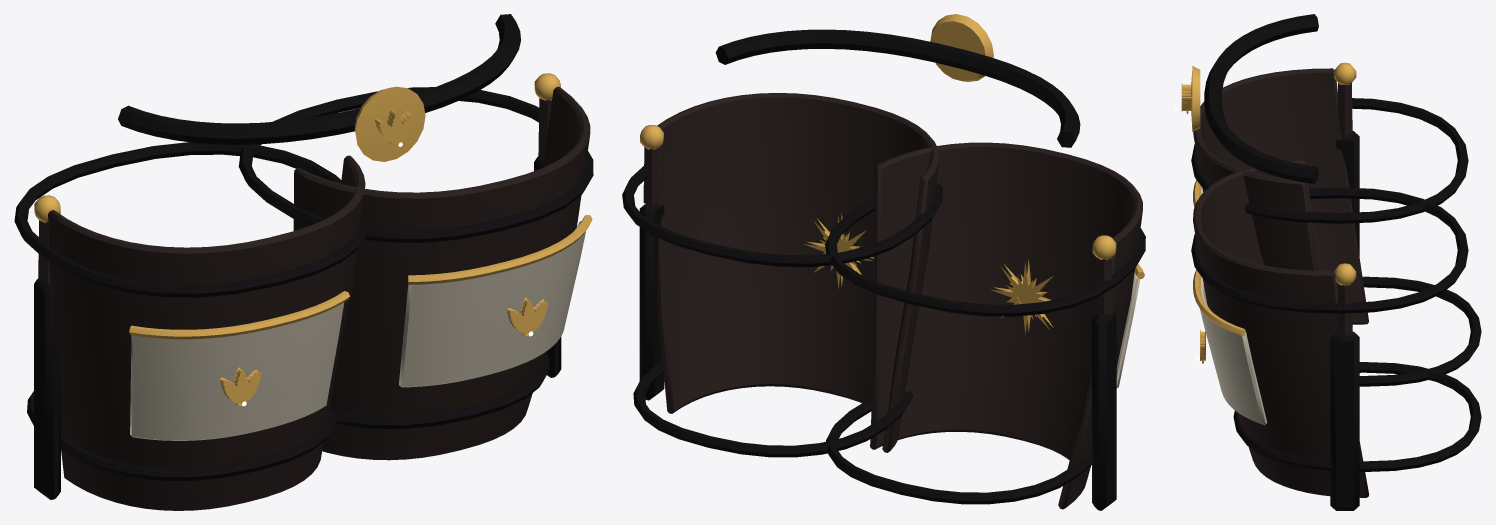
Rendered from asc_penitent_talon_leggings.glb.
3 renders of one model, left to right at view 1: azimuth 30°, elevation 25°; view 2: azimuth 150°, elevation 25°; view 3: azimuth 270°, elevation 25°, orthographic. The views are drawn at different scales.
Parts seen in each view (by area): view 1: AT_thigh_R, AT_thigh_L, asc_penitent_talon_leggings; view 2: AT_thigh_L, AT_thigh_R, asc_penitent_talon_leggings; view 3: AT_thigh_L, AT_thigh_R, asc_penitent_talon_leggings.
Part boxes in pixels (x1,y1,x2,y2): AT_thigh_R: (14, 142, 365, 510); AT_thigh_L: (238, 73, 593, 460); asc_penitent_talon_leggings: (118, 14, 520, 161); AT_thigh_L: (622, 93, 942, 457); AT_thigh_R: (825, 142, 1145, 510); asc_penitent_talon_leggings: (715, 14, 1080, 334); AT_thigh_L: (1191, 159, 1481, 510); AT_thigh_R: (1191, 62, 1481, 386); asc_penitent_talon_leggings: (1174, 14, 1318, 183).
Bounding box in the file's own units: 0.5071 × 0.3851 × 0.3134.
